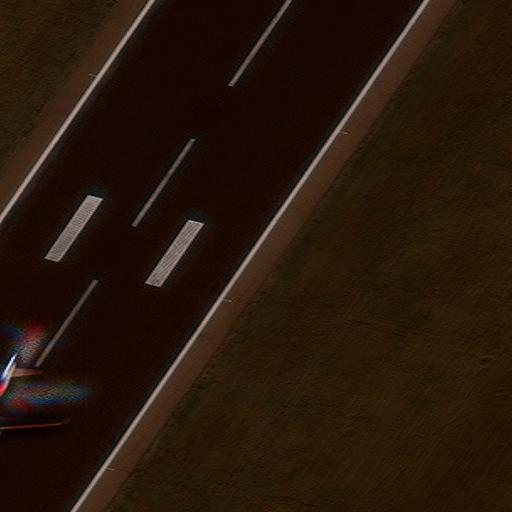Medium Civil Transport: (0, 353, 65, 442)
